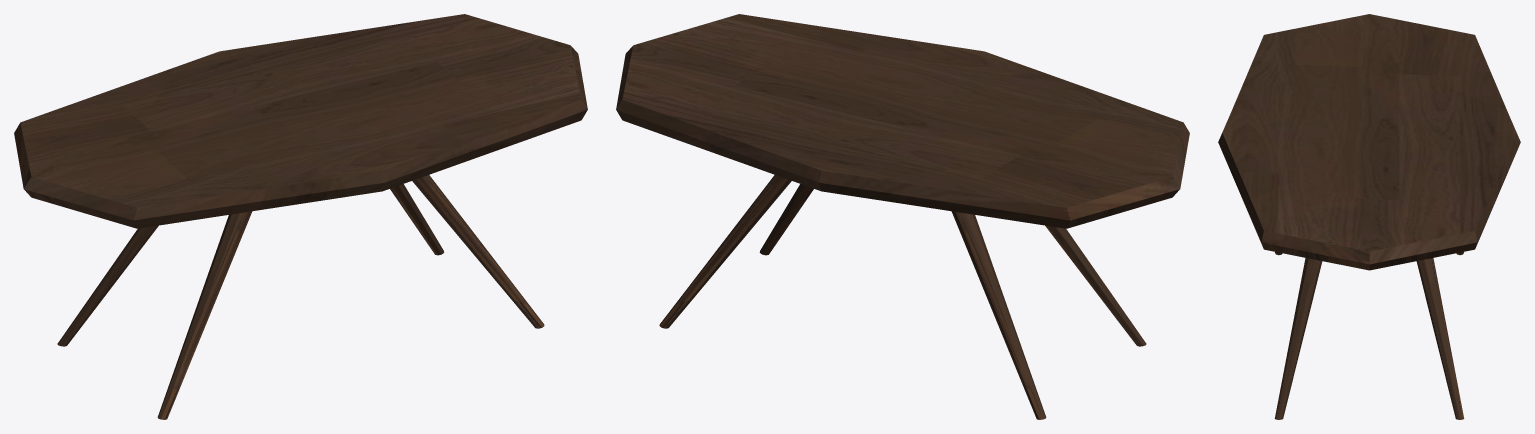
The model's file is Tv-Bord.glb.
3 renders of one model, left to right at view 1: azimuth 30°, elevation 25°; view 2: azimuth 150°, elevation 25°; view 3: azimuth 270°, elevation 25°, orthographic. The views are drawn at different scales.
Visible parts, largest first — view 1: tv-bord; view 2: tv-bord; view 3: tv-bord.
Boxes of the visible parts, x1,y1,x2,y2 form: tv-bord: [14, 14, 587, 419]; tv-bord: [616, 14, 1189, 419]; tv-bord: [1218, 14, 1520, 419].
Size of the model in its own units: 1.3 by 0.5039 by 0.6788.
2 materials, 2 textured.
